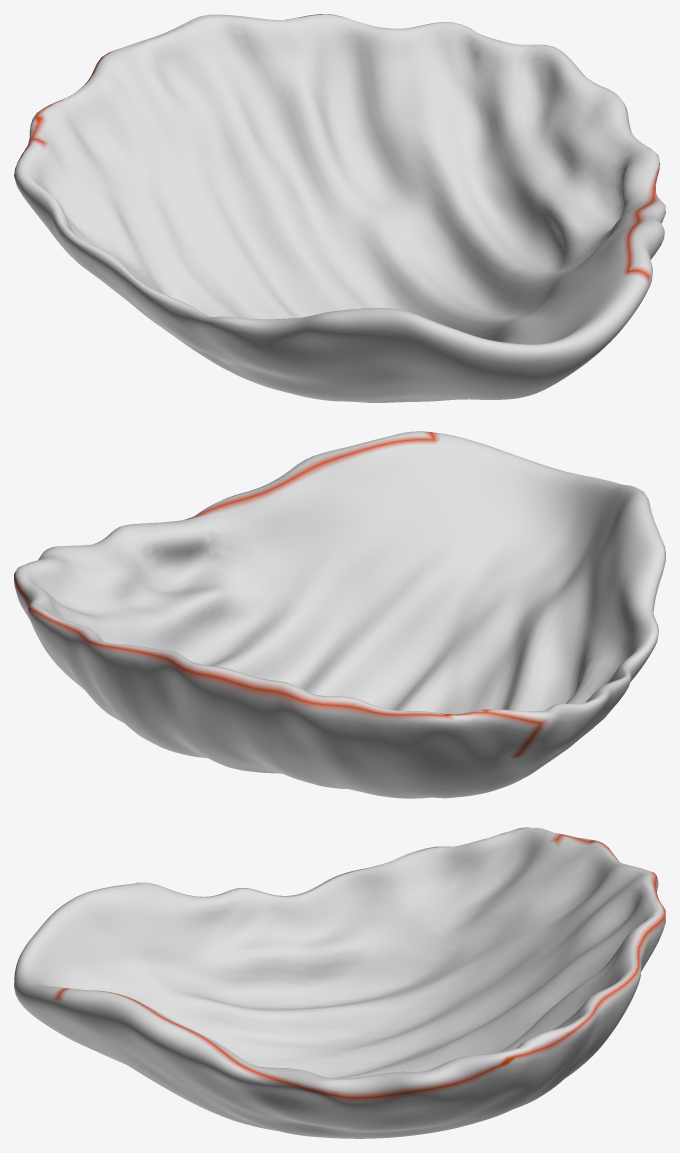
File: Model_Shell.fbx
The picture shows the model from 3 angles, top to bottom: view 1: azimuth 30°, elevation 25°; view 2: azimuth 150°, elevation 25°; view 3: azimuth 270°, elevation 25°; orthographic projection. The views are drawn at different scales.
Parts seen in each view (by area): view 1: Shell; view 2: Shell; view 3: Shell.
Part boxes in pixels (bbox=[...]): Shell: bbox=[14, 14, 665, 402]; Shell: bbox=[14, 431, 665, 798]; Shell: bbox=[14, 827, 665, 1138].
Size of the model in its own units: 17.41 by 6.53 by 19.8.
